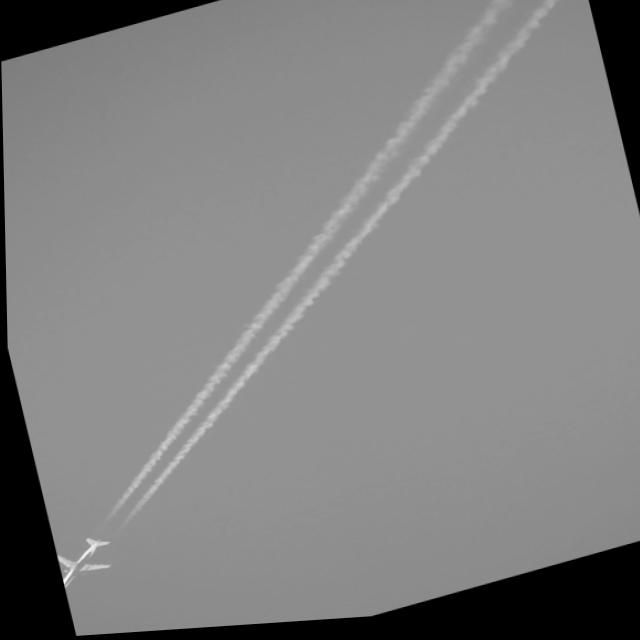aeroplane: (51, 531, 117, 594)
